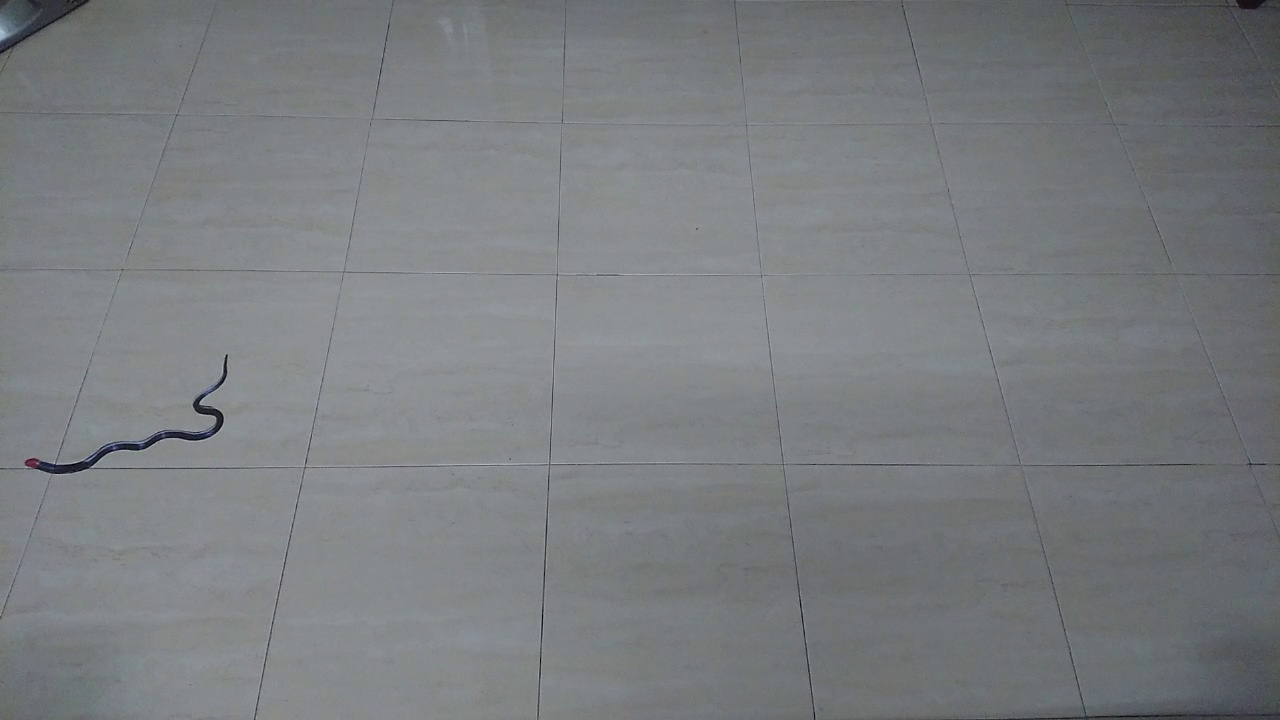snake: (9, 345, 247, 488)
